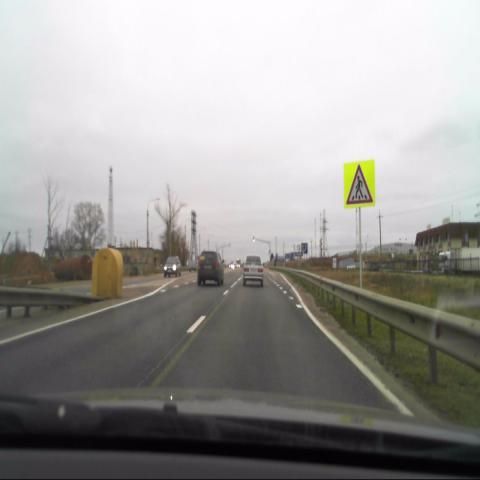1_22: (344, 160, 376, 205)
